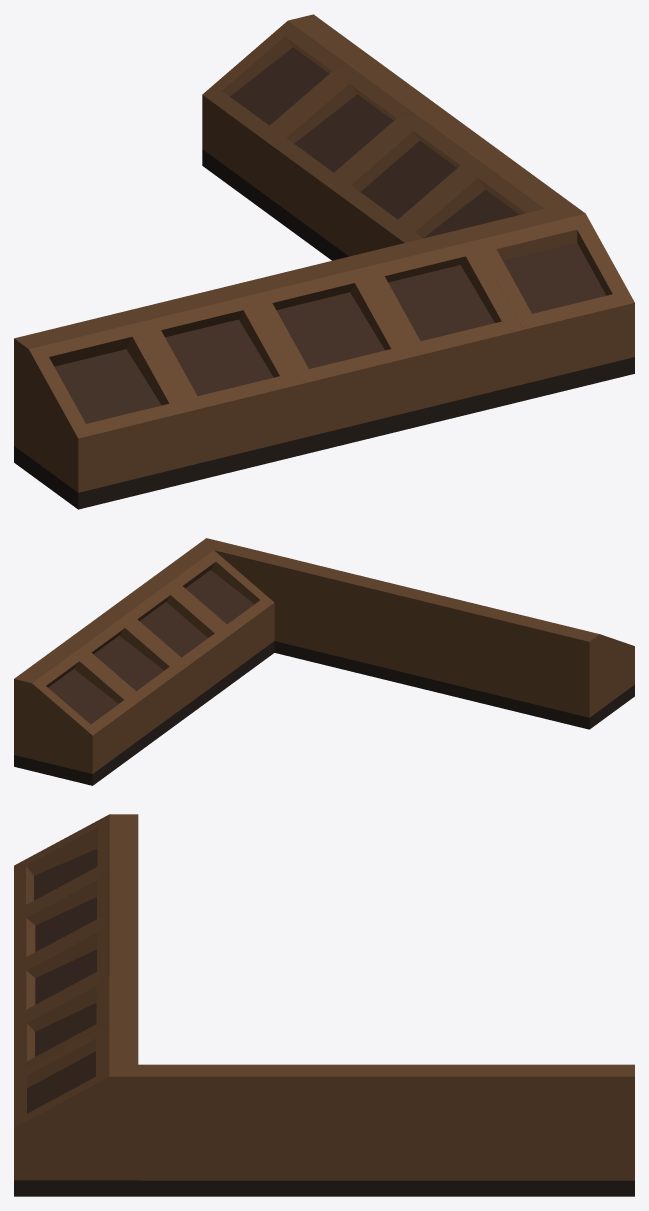
The model's file is backAngle3.fbx.
3 views of the same model, one above another, from view 1: azimuth 30°, elevation 25°; view 2: azimuth 150°, elevation 25°; view 3: azimuth 270°, elevation 25° (orthographic). The views are drawn at different scales.
Parts seen in each view (by area): view 1: Cube.019; view 2: Cube.019; view 3: Cube.019.
Part boxes in pixels (x1,y1,x2,y2): Cube.019: [14, 14, 634, 509]; Cube.019: [14, 538, 634, 785]; Cube.019: [14, 814, 634, 1196].
Size of the model in its own units: 500 by 107 by 500.
